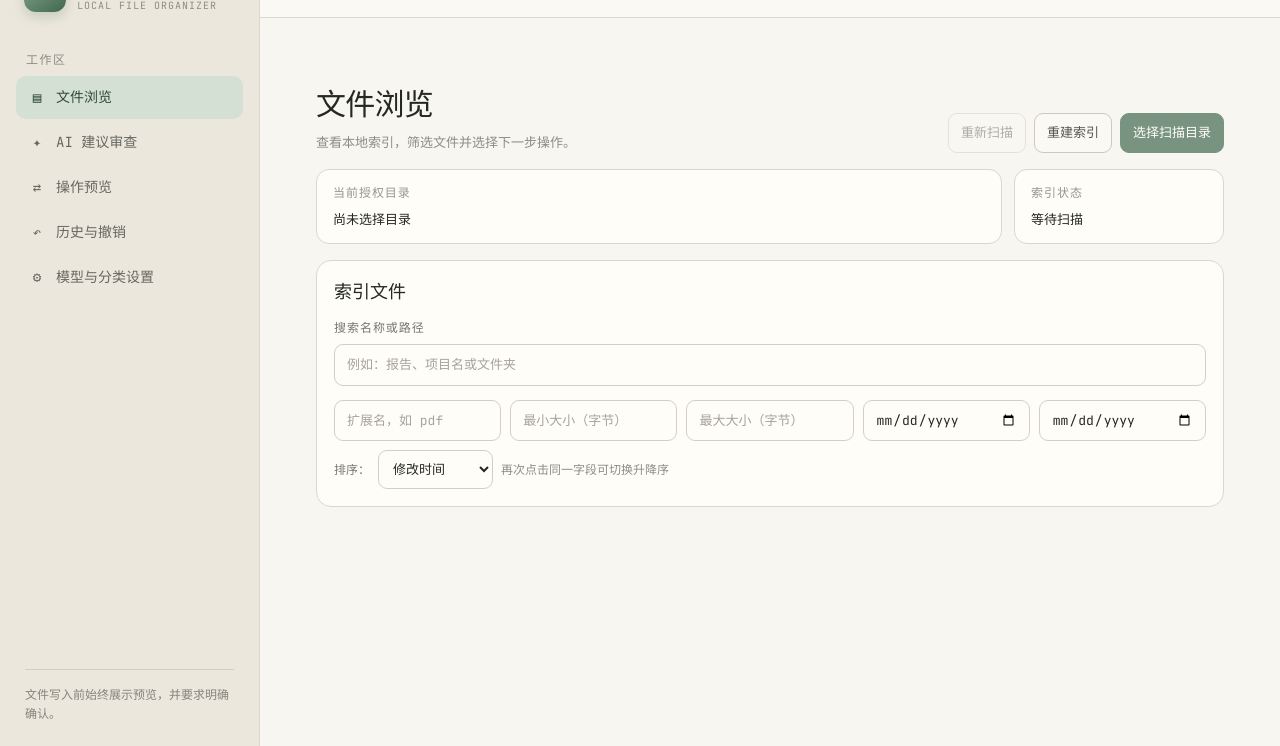
Test: App › clears visible file results after rebuilding the index
Click the button "选择扫描目录": x=1172, y=133 1120,113 -> 1224,152
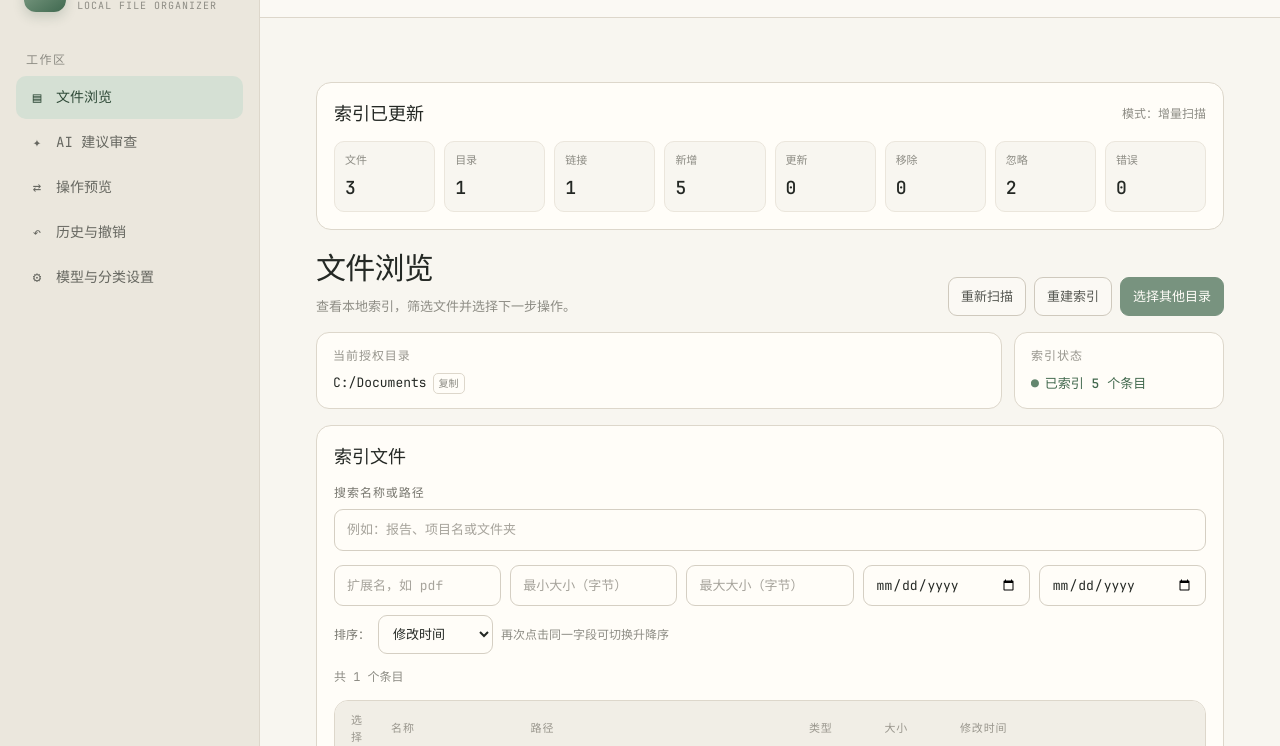
Click the button "重建索引": x=1073, y=296 1034,276 -> 1112,316
(page scrolled)
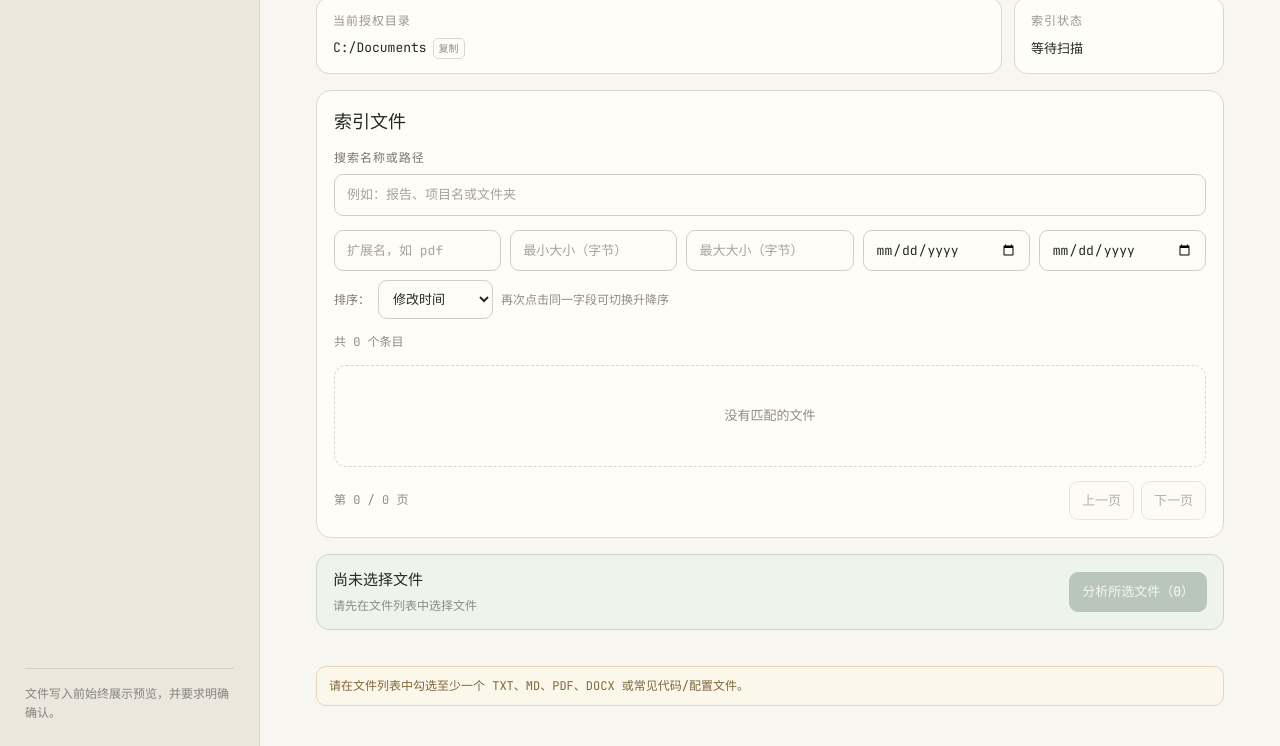
Expected: the text "没有匹配的文件" is shown, 334,365 -> 1206,466
